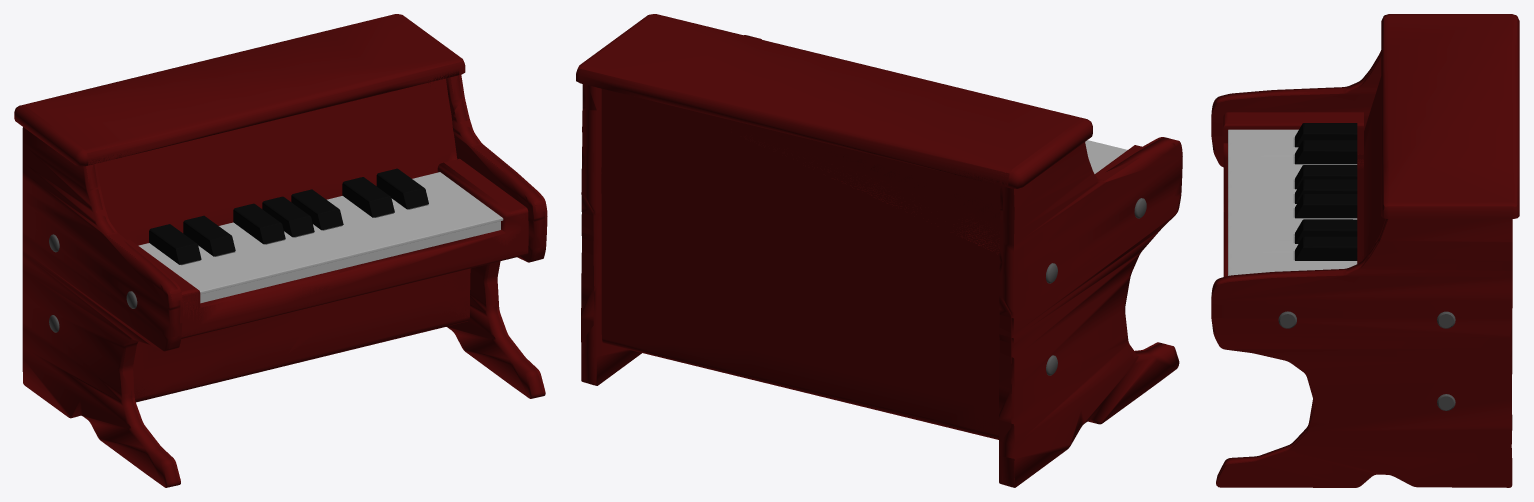
File: Piano_.fbx
3 renders of one model, left to right at view 1: azimuth 30°, elevation 25°; view 2: azimuth 150°, elevation 25°; view 3: azimuth 270°, elevation 25°, orthographic. The views are drawn at different scales.
Visible parts, largest first — view 1: Main_Piano, Break_Piano_Part_1, Break_Piano_Part_2; view 2: Main_Piano, Break_Piano_Part_1, Break_Piano_Part_2; view 3: Main_Piano, Break_Piano_Part_1, Break_Piano_Part_2.
Part boxes in pixels (box(x1,y1,x2,y2)): Main_Piano: box(22, 14, 547, 485); Break_Piano_Part_1: box(14, 68, 462, 487); Break_Piano_Part_2: box(279, 99, 544, 398); Main_Piano: box(576, 14, 1165, 487); Break_Piano_Part_1: box(584, 84, 1182, 487); Break_Piano_Part_2: box(584, 35, 761, 385); Main_Piano: box(1211, 15, 1519, 487); Break_Piano_Part_1: box(1211, 14, 1519, 262); Break_Piano_Part_2: box(1211, 214, 1512, 482).
Bounding box in the file's own units: 113 × 77.18 × 75.67.
